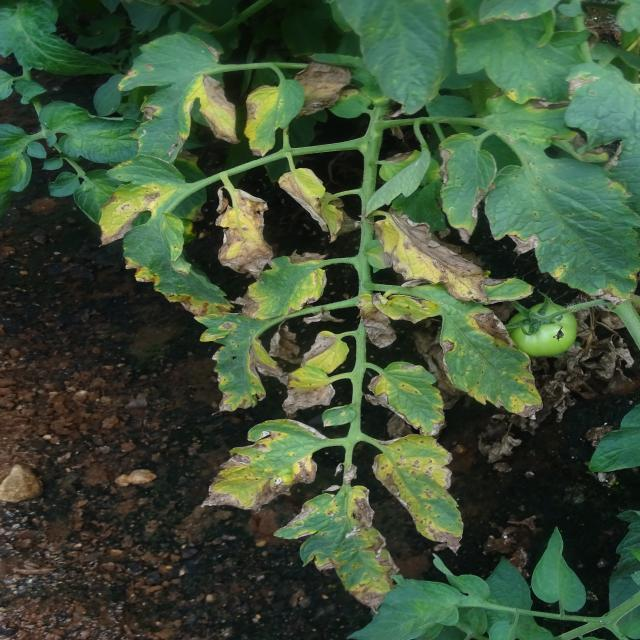Tomato mosaic virus leaf: (486, 160, 640, 312), (274, 482, 400, 616), (122, 32, 238, 174), (97, 154, 195, 316), (438, 306, 544, 420), (372, 434, 465, 556), (372, 212, 492, 304), (201, 418, 319, 510), (198, 312, 284, 416), (438, 132, 500, 245), (276, 166, 356, 247), (366, 360, 446, 438), (239, 250, 328, 319), (214, 189, 274, 282), (240, 81, 305, 157), (278, 368, 336, 416), (376, 146, 436, 186), (304, 330, 348, 370)
